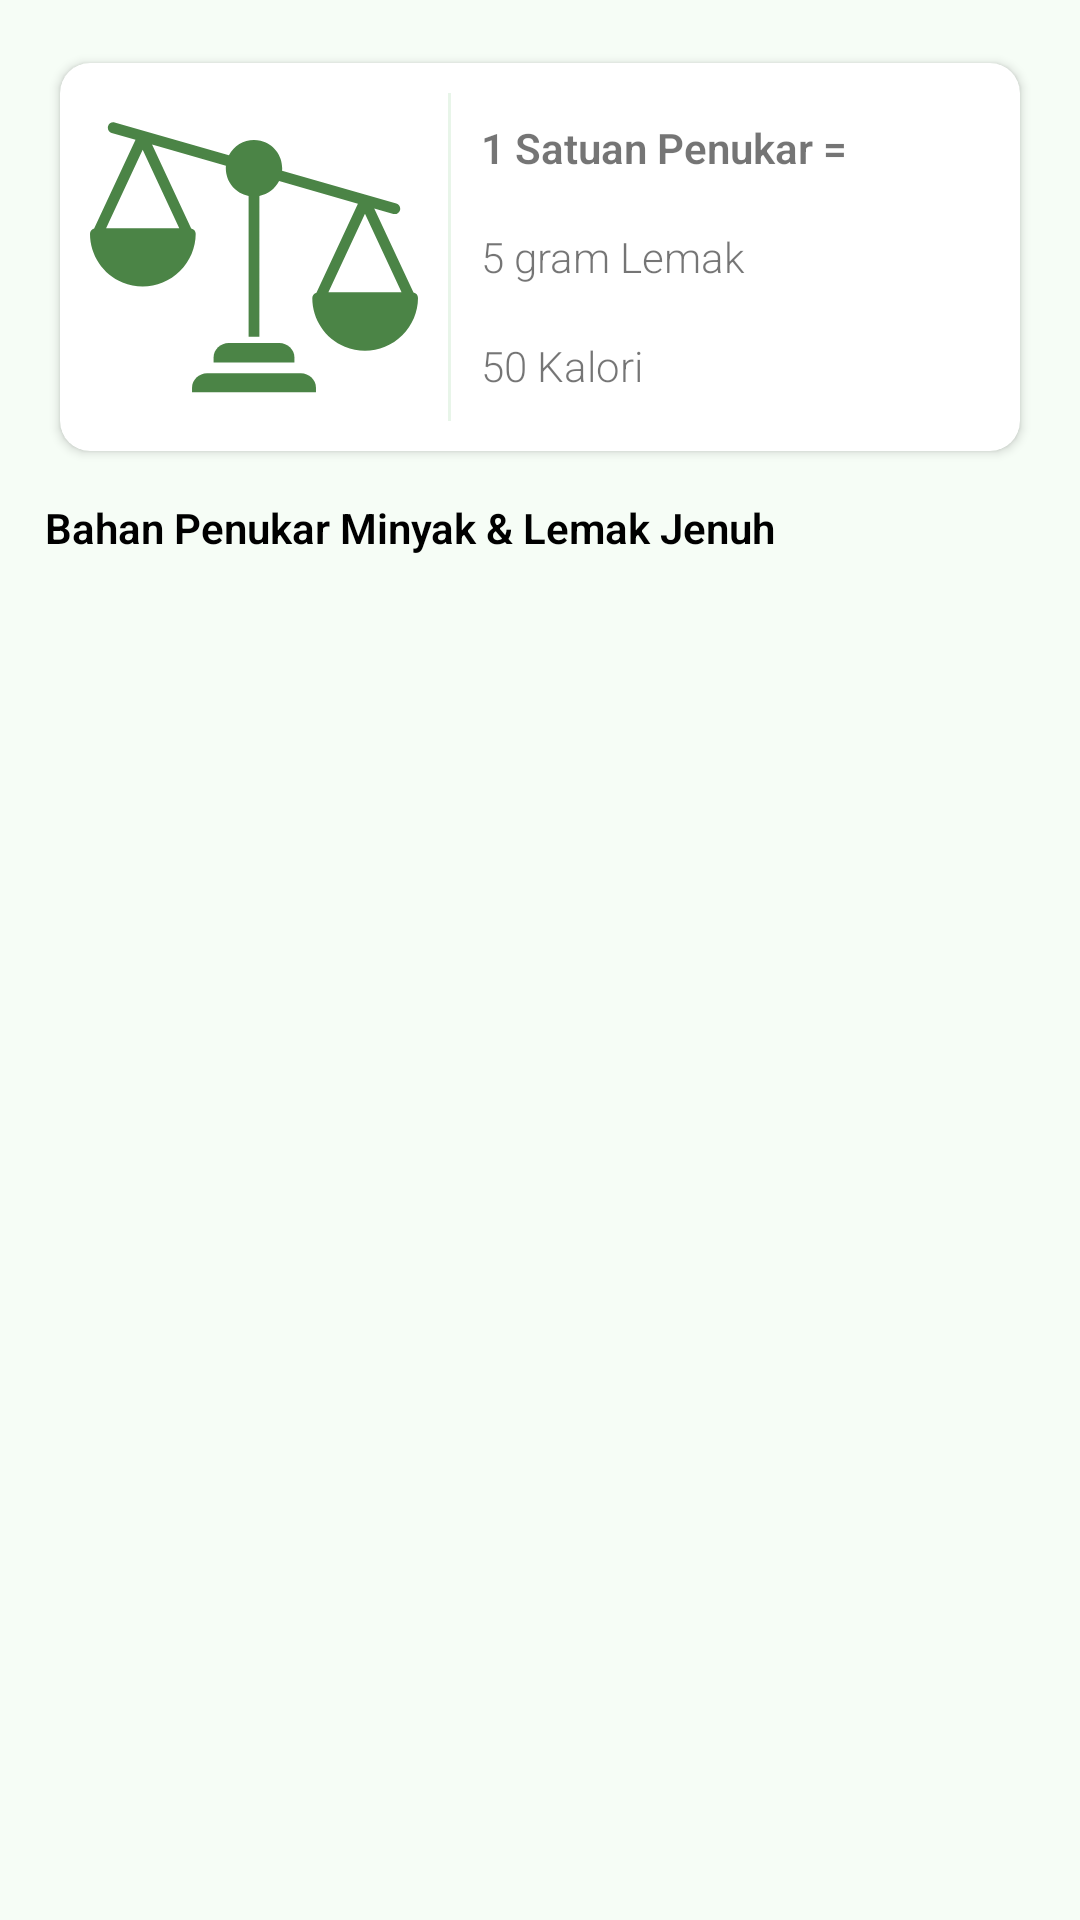

Where icons sit on this 1080x1920 app screen, as Rect(x1, y1, x2, y2):
balance: Rect(90, 122, 418, 393)
